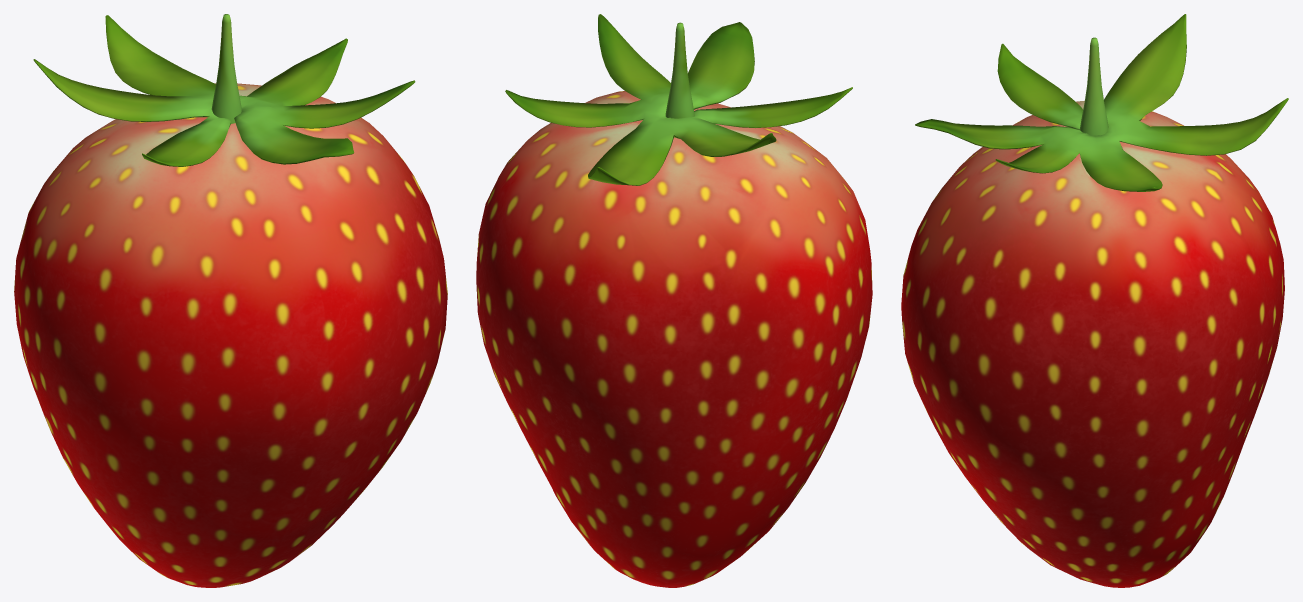
File: Strawberry_LOD0.fbx
3 renders of one model, left to right at view 1: azimuth 30°, elevation 25°; view 2: azimuth 150°, elevation 25°; view 3: azimuth 270°, elevation 25°, orthographic. The views are drawn at different scales.
Parts seen in each view (by area): view 1: Strawberry_LOD0; view 2: Strawberry_LOD0; view 3: Strawberry_LOD0.
Boxes of the visible parts, x1=… form: Strawberry_LOD0: x1=14, y1=14, x2=447, y2=587; Strawberry_LOD0: x1=476, y1=14, x2=872, y2=587; Strawberry_LOD0: x1=901, y1=14, x2=1288, y2=587.
Size of the model in its own units: 0.0301 by 0.029 by 0.0448.
